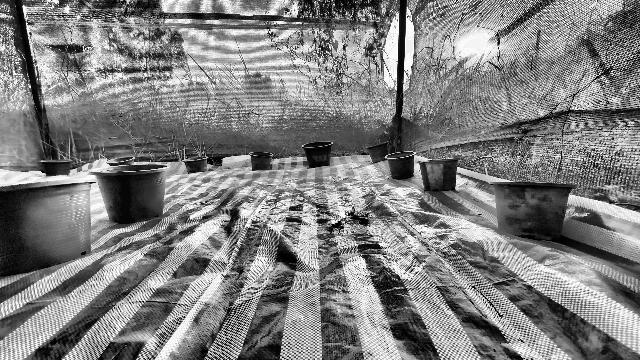pot: (1, 177, 97, 278), (488, 181, 577, 241), (88, 163, 173, 223), (417, 159, 460, 192), (384, 150, 417, 180), (301, 140, 334, 167), (181, 156, 209, 174), (248, 152, 275, 170)
